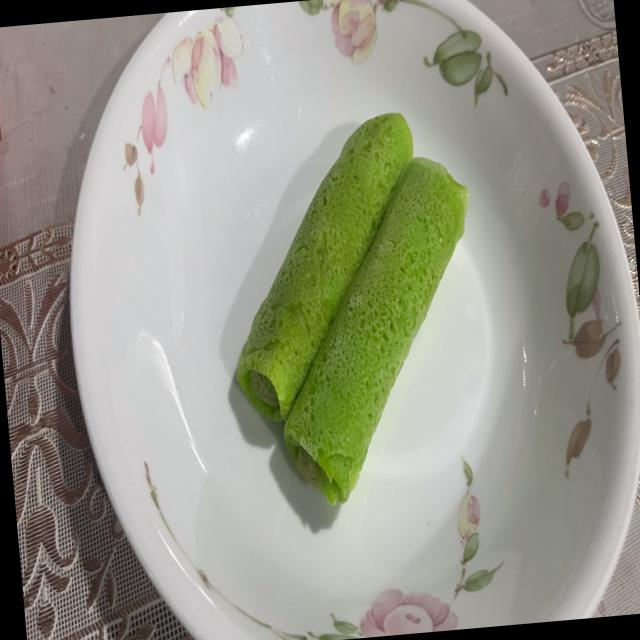Kuih-Ketayap: (284, 157, 469, 502), (236, 113, 412, 420)
